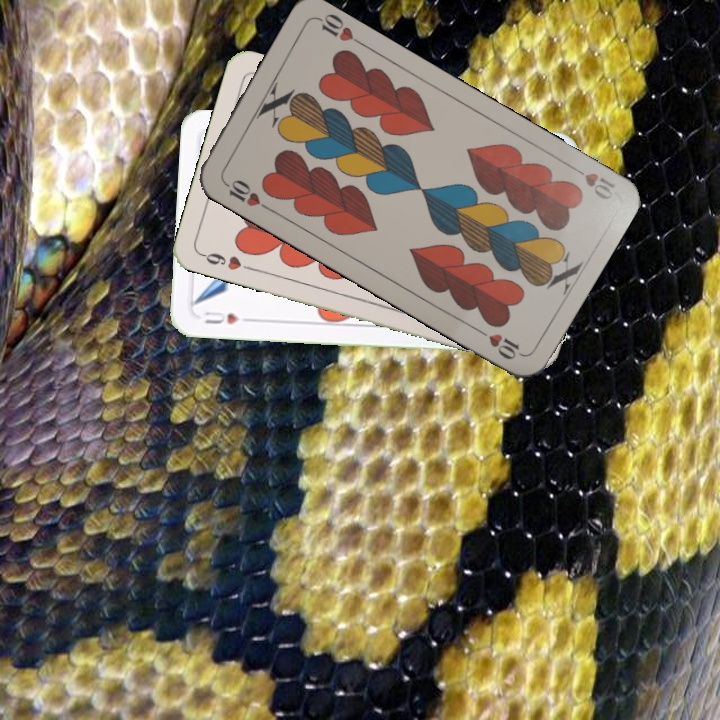H10: (565, 159, 618, 203), (219, 175, 273, 213)
H9: (196, 248, 254, 273)
HU: (200, 307, 241, 327)
